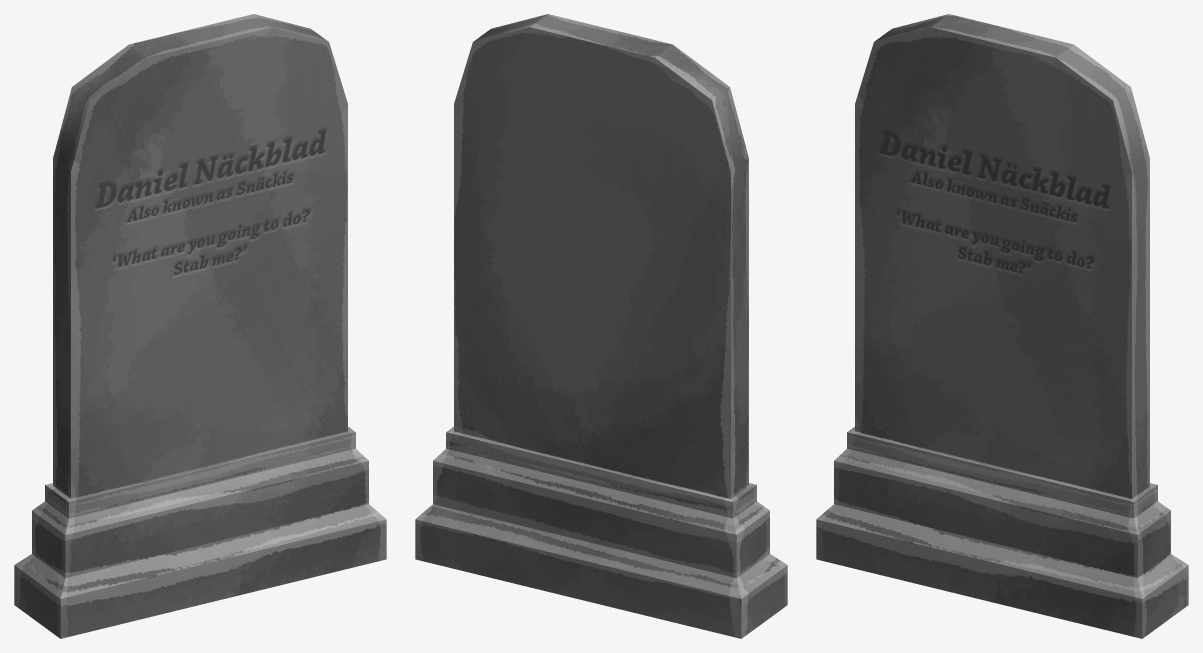
The model's file is DanielGrave_Geo.fbx.
3 renders of one model, left to right at view 1: azimuth 30°, elevation 25°; view 2: azimuth 150°, elevation 25°; view 3: azimuth 330°, elevation 25°, orthographic.
Visible parts, largest first — view 1: DanielGrave_Geo; view 2: DanielGrave_Geo; view 3: DanielGrave_Geo.
Part boxes in pixels (left/top/right/bottom): DanielGrave_Geo: left=14, top=14, right=386, bottom=638; DanielGrave_Geo: left=415, top=14, right=787, bottom=638; DanielGrave_Geo: left=816, top=14, right=1188, bottom=638.
Size of the model in its own units: 93.27 by 149 by 22.95.
